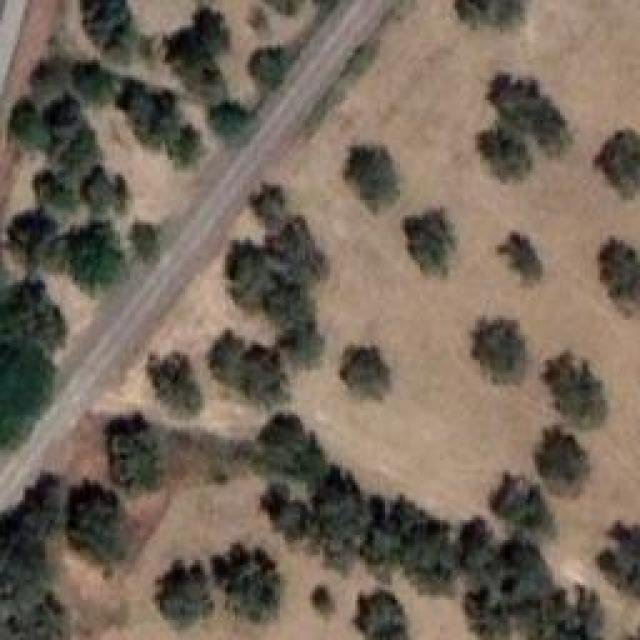Tree: (357, 483, 460, 586), (495, 53, 585, 149), (158, 20, 231, 104), (460, 538, 545, 610), (0, 343, 58, 448), (58, 223, 140, 296), (540, 353, 611, 428), (215, 535, 279, 618), (315, 465, 370, 559), (108, 408, 173, 486), (468, 312, 536, 386), (63, 475, 129, 551), (0, 278, 70, 345), (343, 138, 402, 217), (148, 560, 215, 627), (408, 198, 463, 276), (257, 270, 313, 344), (112, 70, 166, 145), (148, 345, 203, 415), (535, 585, 603, 640), (475, 120, 539, 176), (498, 468, 558, 525), (530, 426, 588, 484), (3, 208, 61, 265), (593, 235, 640, 303), (350, 587, 410, 640), (258, 475, 304, 544), (80, 0, 137, 55), (448, 502, 503, 559), (500, 220, 553, 279), (132, 210, 178, 277), (595, 520, 639, 590), (260, 415, 312, 473), (345, 345, 399, 400), (455, 0, 527, 39), (595, 130, 640, 192), (200, 93, 249, 148), (225, 245, 272, 302), (245, 343, 282, 413), (247, 33, 289, 94), (0, 100, 47, 153), (162, 117, 210, 167), (275, 225, 318, 280), (50, 122, 98, 171), (85, 170, 131, 216), (30, 170, 79, 212), (197, 7, 237, 58), (68, 53, 110, 101), (208, 332, 245, 386), (17, 54, 68, 88), (45, 92, 83, 136), (255, 180, 292, 225), (315, 582, 344, 622)
